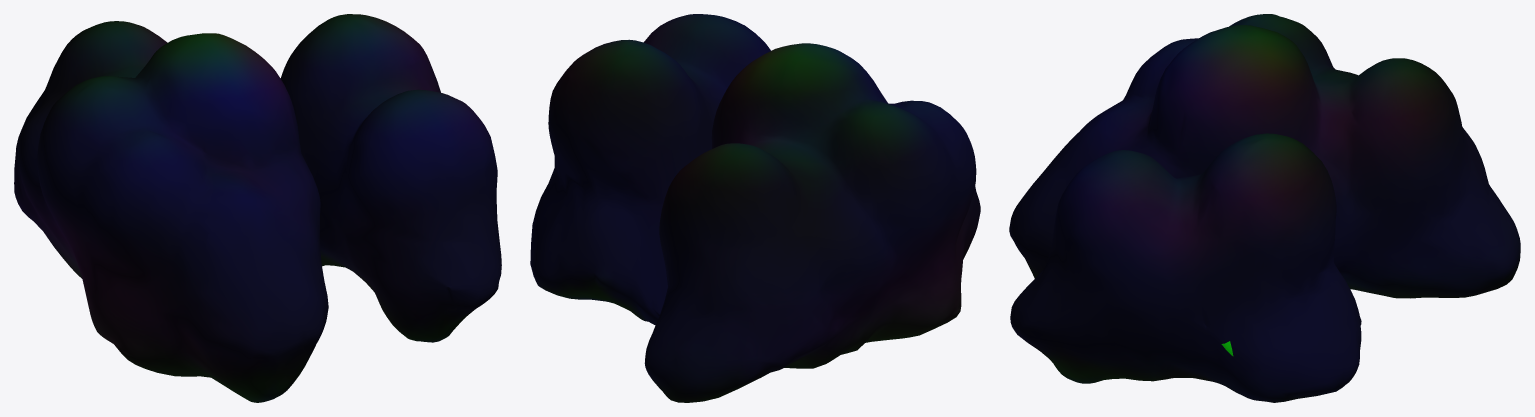
The model's file is small_cloud_1.fbx.
3 views of the same model, side by side, from view 1: azimuth 30°, elevation 25°; view 2: azimuth 150°, elevation 25°; view 3: azimuth 270°, elevation 25° (orthographic).
Parts seen in each view (by area): view 1: small_cloud_1; view 2: small_cloud_1; view 3: small_cloud_1.
Part boxes in pixels (x1,y1,x2,y2): small_cloud_1: (14,14,501,402); small_cloud_1: (530,14,980,402); small_cloud_1: (1009,14,1520,402).
Bounding box in the file's own units: 4.79 × 3.33 × 5.28.
